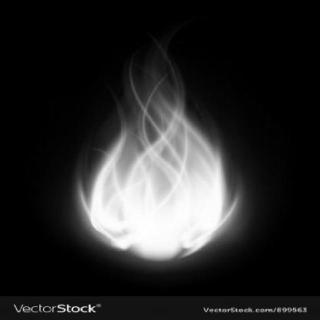Fire: (86, 44, 243, 266)
